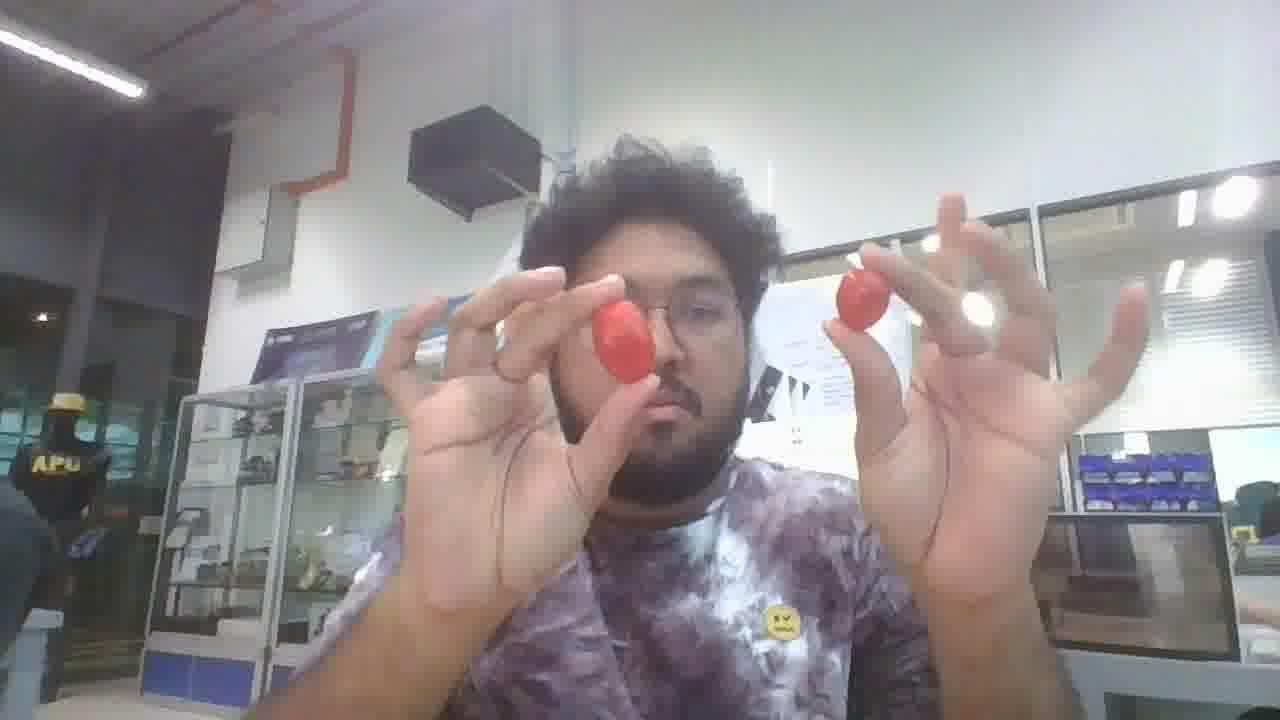red_cherry_tomato: (592, 300, 655, 383), (836, 269, 889, 331)
